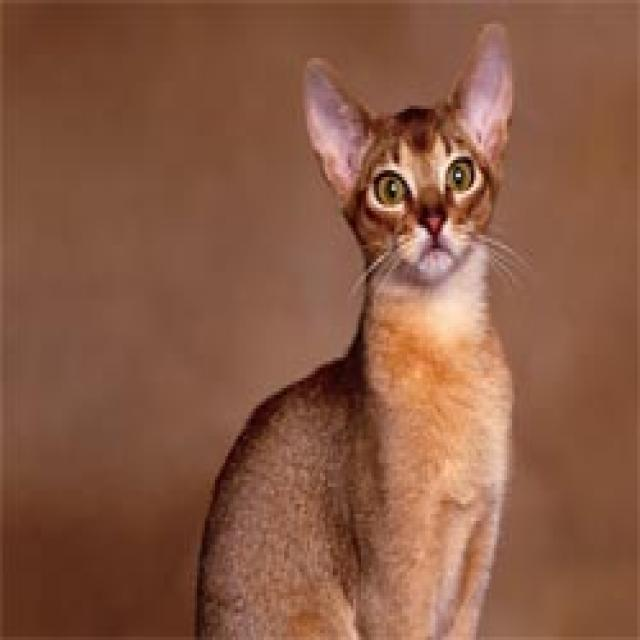Abyssinian: (302, 14, 524, 288)
